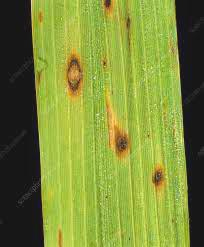0 BrownSpot: (102, 102, 135, 161), (62, 44, 90, 97), (141, 152, 177, 192), (51, 224, 66, 247), (34, 5, 47, 26), (101, 1, 114, 13)
